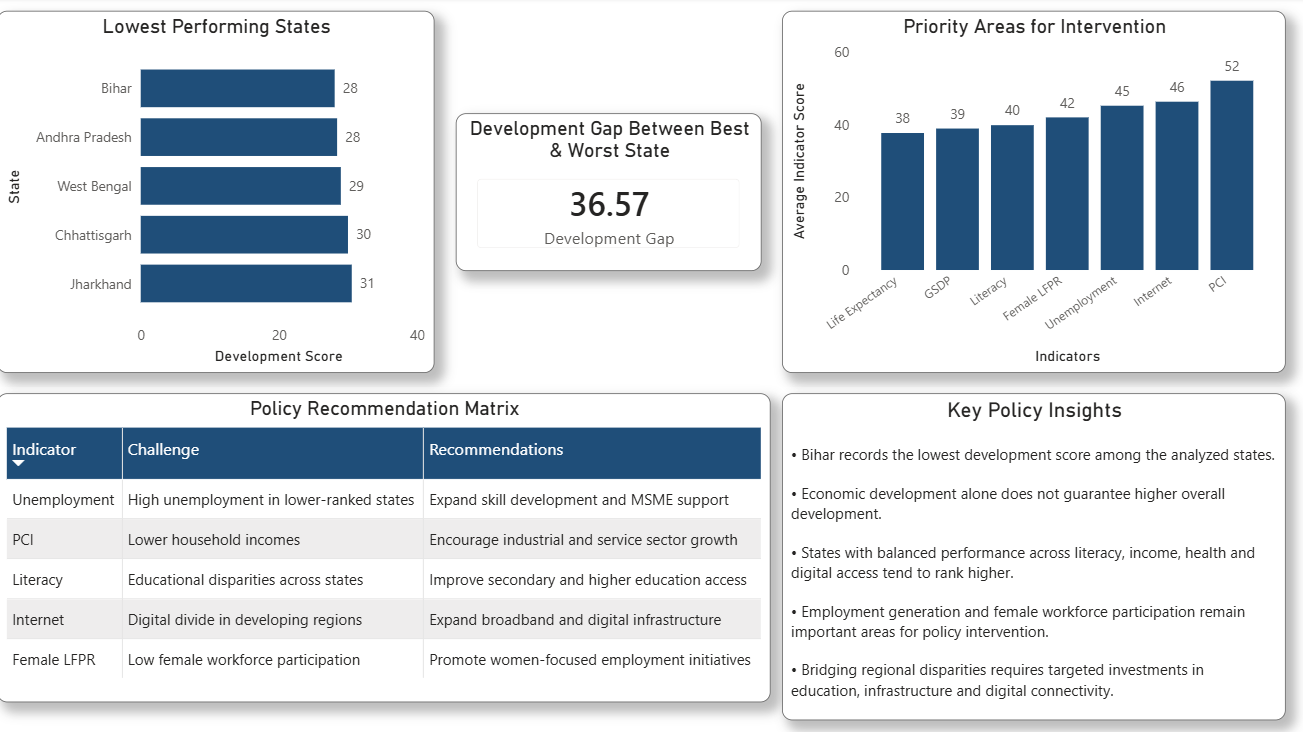

Layout of this report page (visuals, bound fields, positions):
{"tool":"powerbi","page":{"name":"Policy Recommendations & Strategic Priorities","canvas":[1280,720],"ordinal":3},"visuals":[{"type":"clusteredBarChart","title":"Lowest Performing States","fields":{"Category":["Master_Data.State"],"Y":["Master_Data.Development Score (M)"]},"box":[0,13.5,428,354.6],"z":0},{"type":"clusteredColumnChart","title":"Priority Areas for Intervention","fields":{"Category":["Indicators.Indicators"],"Y":["Indicators.Average Indicator Score"]},"box":[767.9,13.5,492.8,354.6],"z":1000},{"type":"tableEx","title":"Policy Recommendation Matrix","fields":{"Values":["Recommendations.Indicator","Recommendations.Challenge","Recommendations.Recommendations"]},"box":[0,387.6,756.9,302],"z":2000},{"type":"cardVisual","title":"Development Gap Between Best & Worst State","fields":{"Data":["Indicators.Development Gap"]},"box":[448.8,113.7,299.6,154.1],"z":3000},{"type":"textbox","title":"Key Policy Insights","box":[767.9,387.6,492.8,320.4],"z":4000}]}

Visuals, with their boxes in screenshot pixels (x1, y1, x2, y2), scaled from the page's 1280x720 canvas onto the 1303x732 screenshot:
"Lowest Performing States" clusteredBarChart: {"left": 0, "top": 14, "right": 436, "bottom": 374}
"Priority Areas for Intervention" clusteredColumnChart: {"left": 782, "top": 14, "right": 1283, "bottom": 374}
"Policy Recommendation Matrix" tableEx: {"left": 0, "top": 394, "right": 771, "bottom": 701}
"Development Gap Between Best & Worst State" cardVisual: {"left": 457, "top": 116, "right": 762, "bottom": 272}
"Key Policy Insights" textbox: {"left": 782, "top": 394, "right": 1283, "bottom": 720}
